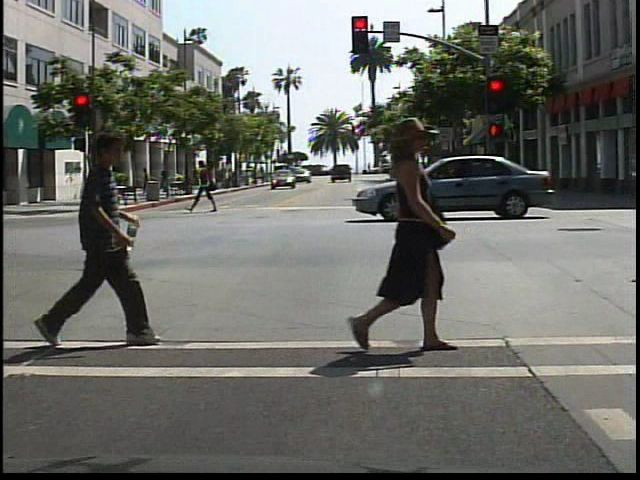person: (345, 119, 473, 357), (46, 127, 155, 349), (190, 156, 223, 216), (138, 164, 159, 204)
